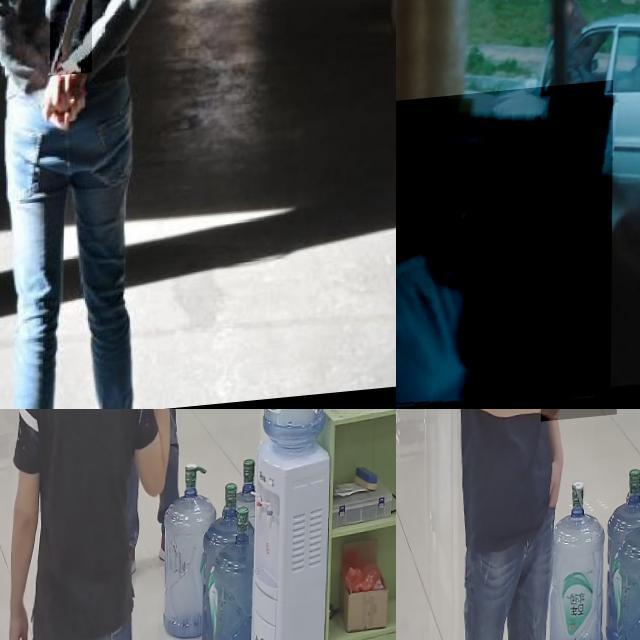-: (50, 0, 92, 80)
gun-knife-thesis - v11 Yolov5 augmented: (396, 91, 613, 409), (541, 409, 617, 451), (142, 409, 178, 474)
